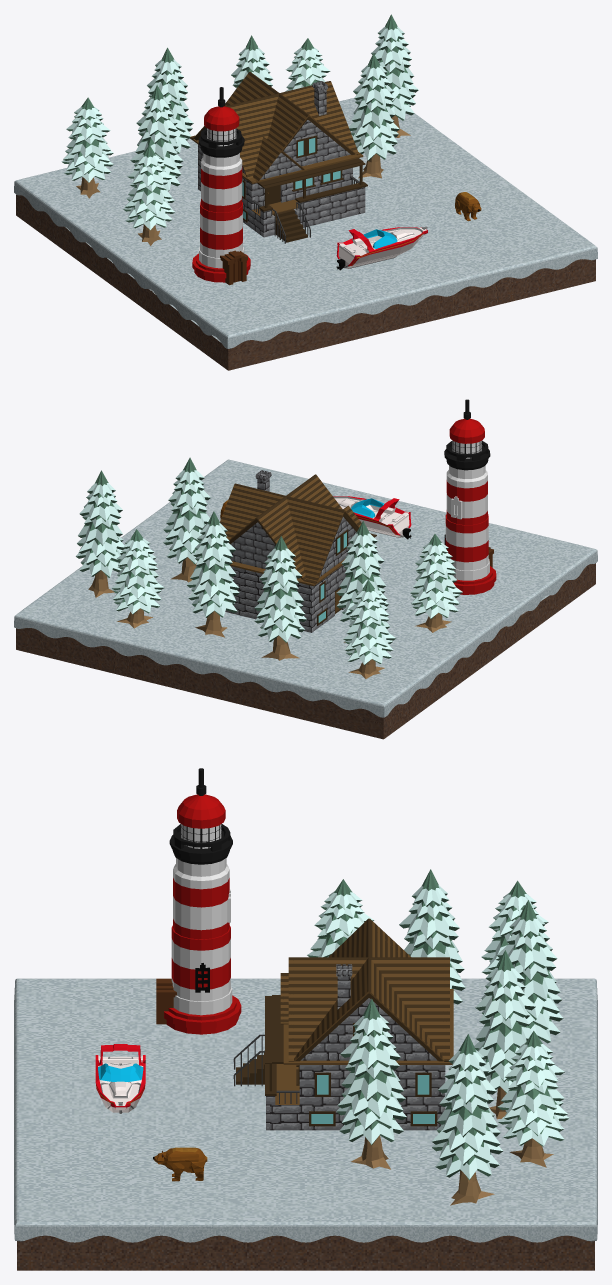
3 renders of one model, top to bottom at view 1: azimuth 30°, elevation 25°; view 2: azimuth 150°, elevation 25°; view 3: azimuth 270°, elevation 25°, orthographic. The views are drawn at different scales.
Parts seen in each view (by area): view 1: Cube.003, Cube.586, OBJRANDOM_LIGHTHOUSE, VEHICLES_BOAT, ANIMAL_OSO; view 2: Cube.003, Cube.586, OBJRANDOM_LIGHTHOUSE, VEHICLES_BOAT; view 3: Cube.003, Cube.586, OBJRANDOM_LIGHTHOUSE, VEHICLES_BOAT, ANIMAL_OSO.
Boxes of the visible parts, box(x1,y1,x2,y2) form: Cube.003: box(14, 14, 597, 370); Cube.586: box(190, 71, 367, 243); OBJRANDOM_LIGHTHOUSE: box(192, 87, 250, 285); VEHICLES_BOAT: box(336, 226, 427, 270); ANIMAL_OSO: box(455, 192, 481, 221); Cube.003: box(14, 457, 597, 739); Cube.586: box(220, 470, 379, 632); OBJRANDOM_LIGHTHOUSE: box(444, 399, 496, 594); VEHICLES_BOAT: box(333, 496, 411, 539); Cube.003: box(14, 869, 597, 1270); Cube.586: box(233, 918, 453, 1130); OBJRANDOM_LIGHTHOUSE: box(156, 768, 241, 1034); VEHICLES_BOAT: box(95, 1044, 145, 1113); ANIMAL_OSO: box(153, 1147, 207, 1181).
Size of the model in its own units: 4040 by 2328 by 4040.
Materials: 32 (4 with a texture image).
